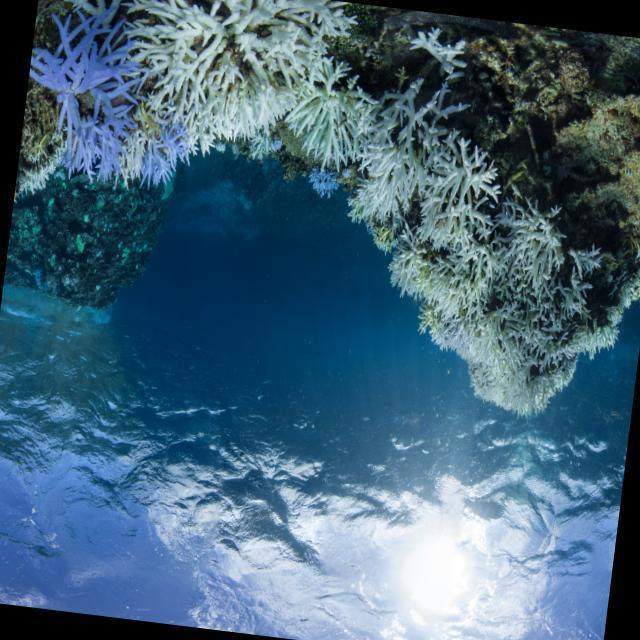Bleached Coral: (391, 213, 624, 435), (121, 0, 338, 160), (348, 108, 504, 268), (272, 57, 369, 205)
Dead Coral: (496, 103, 563, 200), (39, 0, 123, 14)
